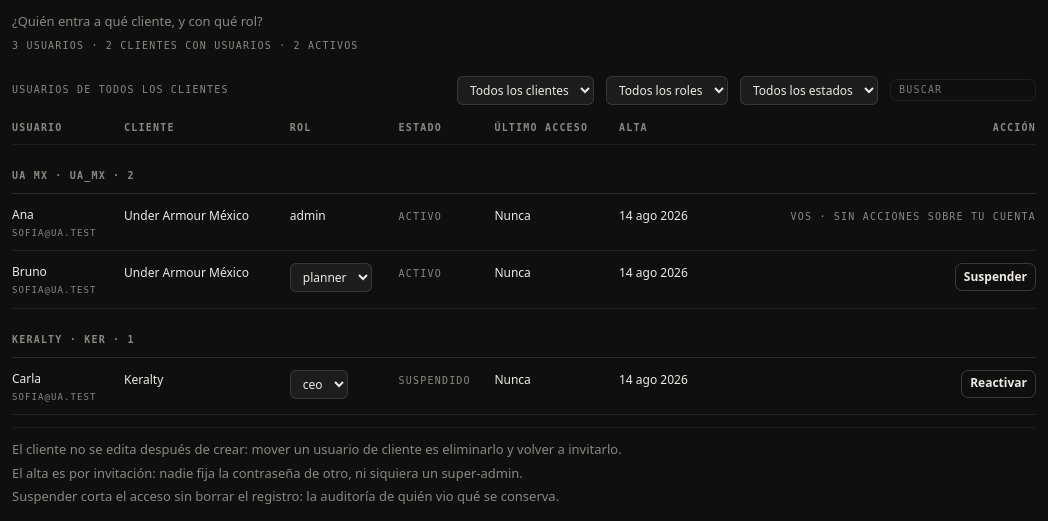
Scenario: organizados por cliente › el filtro de cliente deja sólo los suyos
Select "Keralty · ker" in the dropdown named "Cliente" at (526, 90), box [457,76,594,104]
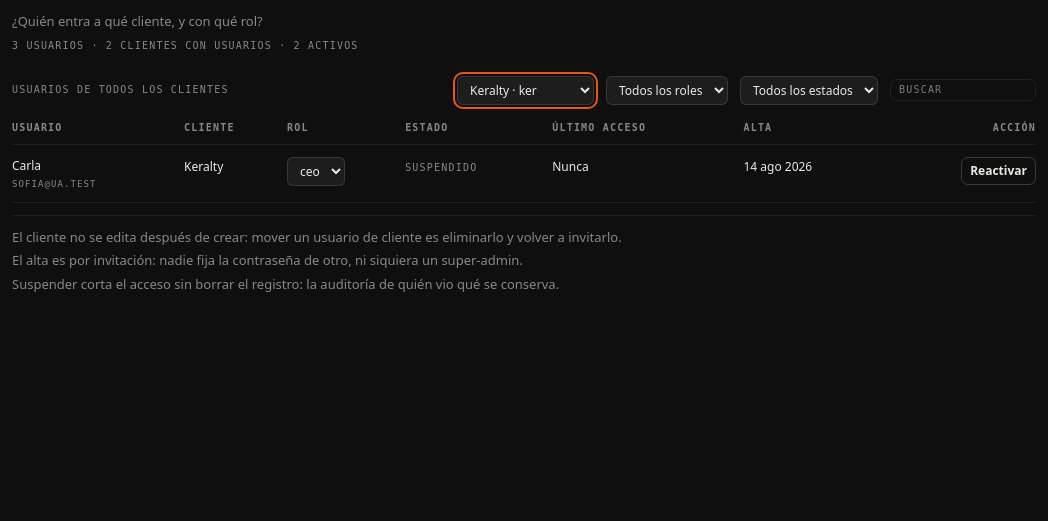
Expected: the text "Carla" is shown, [12,157,41,174]
Now the text "Bruno" is gone
